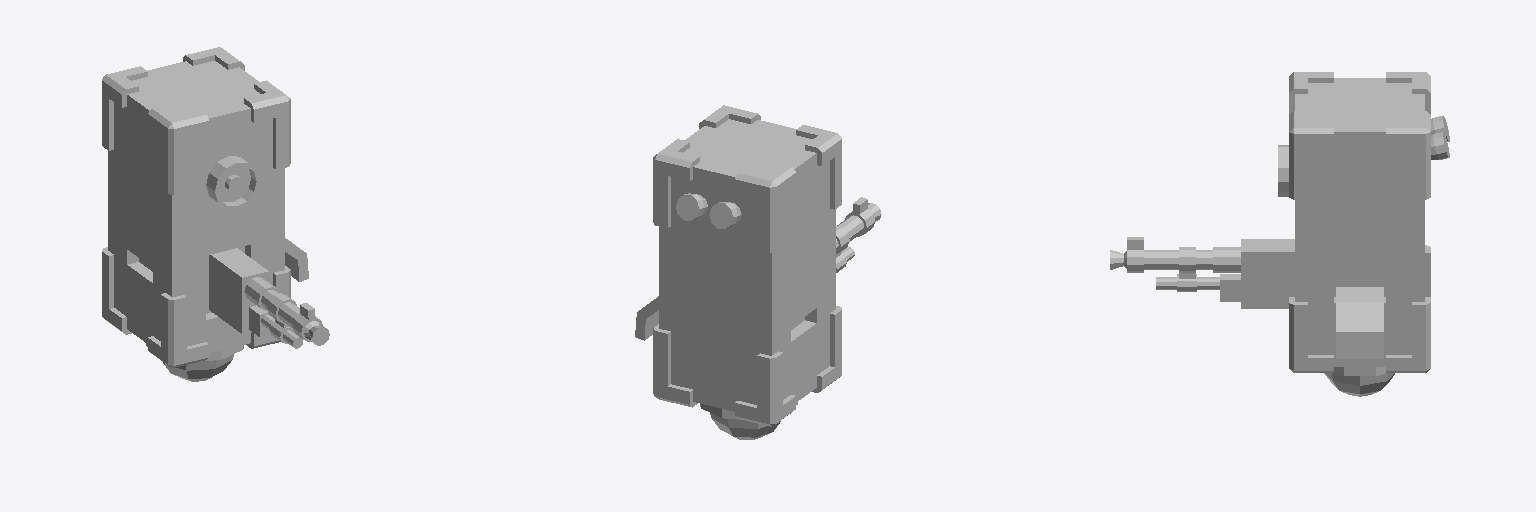
The model's file is robot.obj.
3 views of the same model, side by side, from view 1: azimuth 30°, elevation 25°; view 2: azimuth 150°, elevation 25°; view 3: azimuth 270°, elevation 25° (orthographic).
Parts seen in each view (by area): view 1: robot; view 2: robot; view 3: robot.
Boxes of the visible parts, x1=… form: robot: x1=102, y1=47, x2=329, y2=381; robot: x1=635, y1=105, x2=881, y2=439; robot: x1=1110, y1=72, x2=1449, y2=396.
Size of the model in its own units: 4.76 by 8.2 by 8.6.